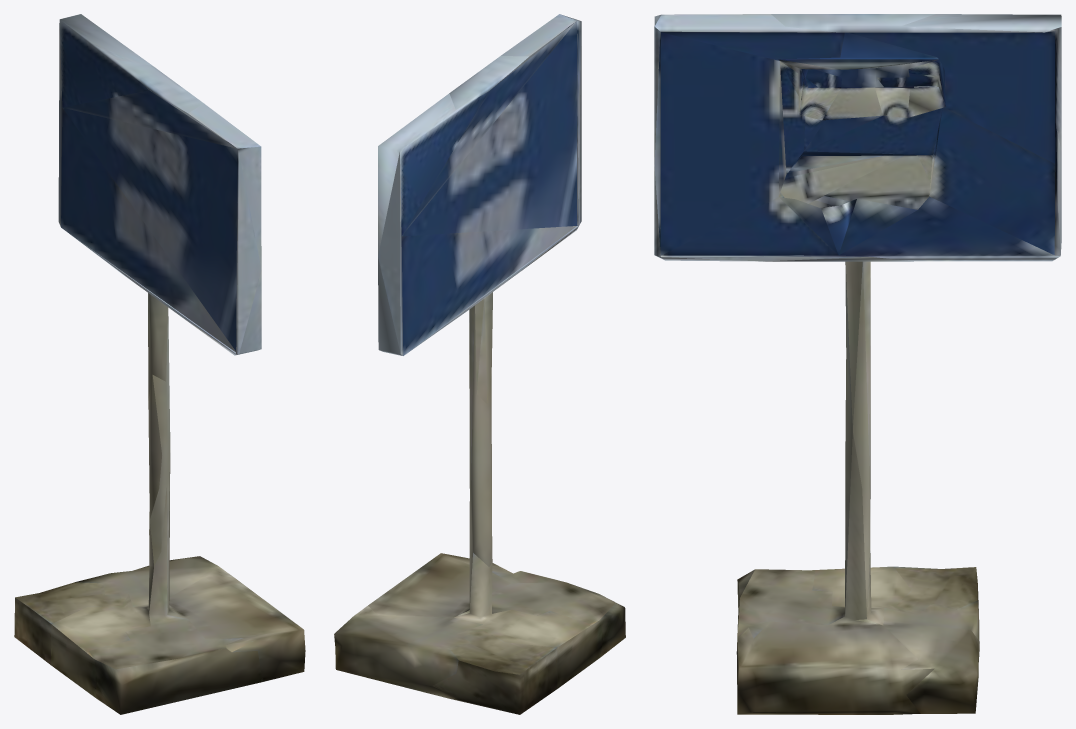
File: rambu_bus_truck_lod2.glb
3 views of the same model, side by side, from view 1: azimuth 30°, elevation 25°; view 2: azimuth 150°, elevation 25°; view 3: azimuth 270°, elevation 25° (orthographic). The views are drawn at different scales.
Parts seen in each view (by area): view 1: tripo_node_6c804d37; view 2: tripo_node_6c804d37; view 3: tripo_node_6c804d37.
Part boxes in pixels (bbox=[...]): tripo_node_6c804d37: bbox=[14, 14, 305, 714]; tripo_node_6c804d37: bbox=[334, 14, 625, 714]; tripo_node_6c804d37: bbox=[654, 14, 1061, 714].
Bounding box in the file's own units: 34.2 × 99.94 × 57.17.
1 material, 1 textured.
